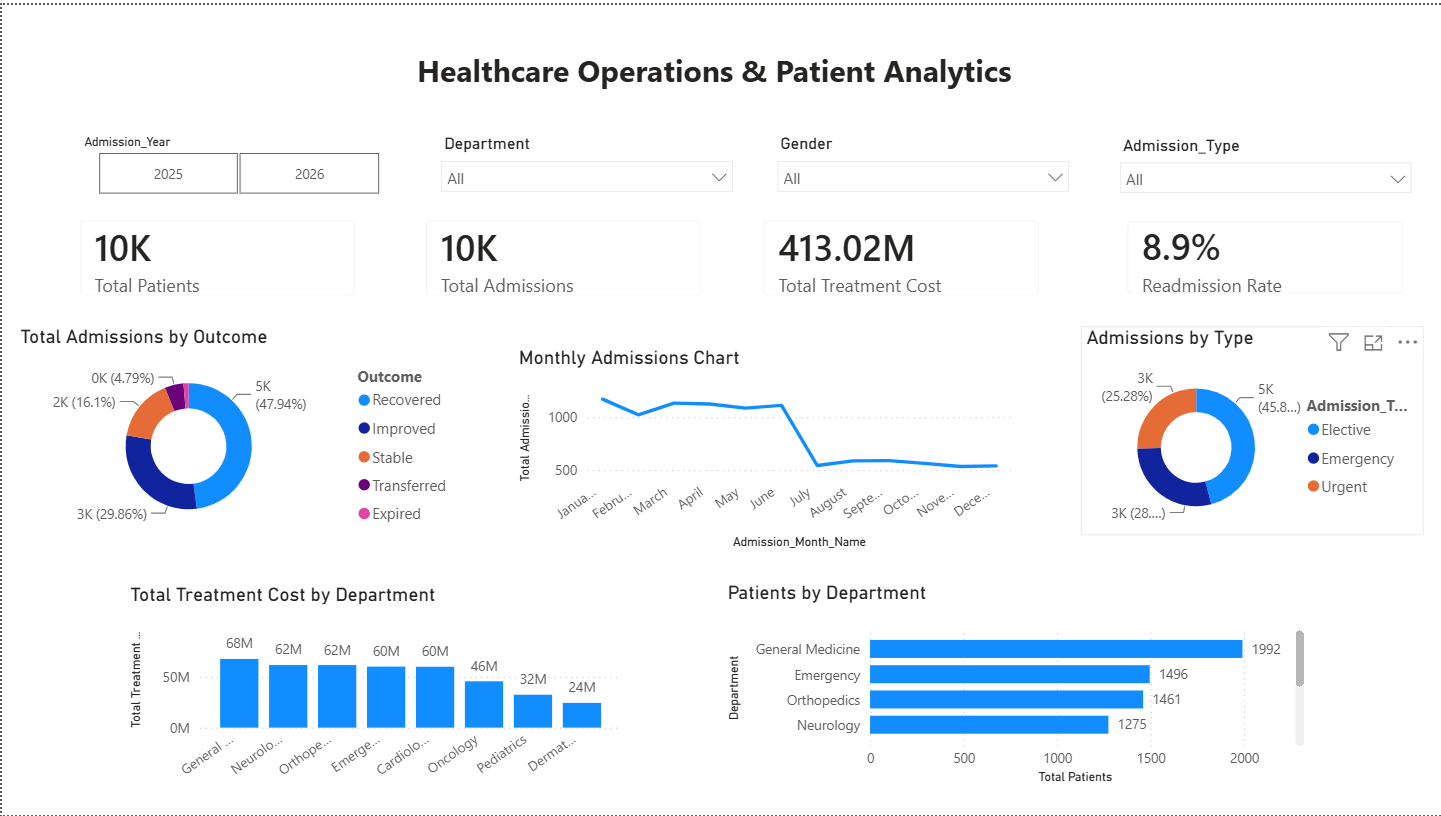

Layout of this report page (visuals, bound fields, positions):
{"tool":"powerbi","page":{"name":"Executive Overview","canvas":[1280,720],"ordinal":0},"visuals":[{"type":"cardVisual","fields":{"Data":["healthcare_data.Total Patients"]},"box":[52.1,174.3,279.9,101.5],"z":0},{"type":"cardVisual","fields":{"Data":["healthcare_data.Total Admissions"]},"box":[359.5,174.3,279.9,101.5],"z":1000},{"type":"cardVisual","fields":{"Data":["healthcare_data.Total Treatment Cost"]},"box":[660,174.3,279.9,101.5],"z":2000},{"type":"cardVisual","fields":{"Data":["healthcare_data.Readmission Rate"]},"box":[983.9,175.6,279.9,98.8],"z":3000},{"type":"lineChart","title":"Monthly Admissions Chart","fields":{"Y":["healthcare_data.Total Admissions"],"Category":["healthcare_data.Admission_Month_Name"]},"box":[454.2,303.3,447.3,185.2],"z":4000},{"type":"clusteredBarChart","title":"Patients by Department","fields":{"Category":["healthcare_data.Department"],"Y":["healthcare_data.Total Patients"]},"box":[639.5,511.8,522.8,185.2],"z":5000},{"type":"donutChart","title":"Admissions by Type","fields":{"Category":["healthcare_data.Admission_Type"],"Y":["healthcare_data.Total Admissions"]},"box":[959.2,285.4,304.6,185.2],"z":5001},{"type":"clusteredColumnChart","fields":{"Category":["healthcare_data.Department"],"Y":["healthcare_data.Total Treatment Cost"]},"box":[108.4,513.2,447,185],"z":5002},{"type":"donutChart","fields":{"Category":["healthcare_data.Outcome"],"Y":["healthcare_data.Total Admissions"]},"box":[11,284,397.9,185.2],"z":5003},{"type":"slicer","fields":{"Values":["healthcare_data.Admission_Year"]},"box":[60.4,109.8,299.1,64.5],"z":5004},{"type":"slicer","fields":{"Values":["healthcare_data.Department"]},"box":[380.1,109.8,279.9,64.5],"z":5005},{"type":"slicer","fields":{"Values":["healthcare_data.Gender"]},"box":[679.2,109.8,279.9,59],"z":5006},{"type":"slicer","fields":{"Values":["healthcare_data.Admission_Type"]},"box":[983.9,111.1,279.9,64.5],"z":5007},{"type":"textbox","box":[76.8,34.3,1112.9,49.4],"z":5008}]}

Visuals, with their boxes in screenshot pixels (x1, y1, x2, y2), scaled from the page's 1280x720 canvas onto the 1441x816 screenshot:
cardVisual - healthcare_data.Total Patients: 59 198 374 313
cardVisual - healthcare_data.Total Admissions: 405 198 720 313
cardVisual - healthcare_data.Total Treatment Cost: 743 198 1058 313
cardVisual - healthcare_data.Readmission Rate: 1108 199 1423 311
"Monthly Admissions Chart" lineChart: 511 344 1015 554
"Patients by Department" clusteredBarChart: 720 580 1308 790
"Admissions by Type" donutChart: 1080 323 1423 533
clusteredColumnChart - healthcare_data.Department x healthcare_data.Total Treatment Cost: 122 582 625 791
donutChart - healthcare_data.Outcome x healthcare_data.Total Admissions: 12 322 460 532
slicer - healthcare_data.Admission_Year: 68 124 405 198
slicer - healthcare_data.Department: 428 124 743 198
slicer - healthcare_data.Gender: 765 124 1080 191
slicer - healthcare_data.Admission_Type: 1108 126 1423 199
textbox: 86 39 1339 95
